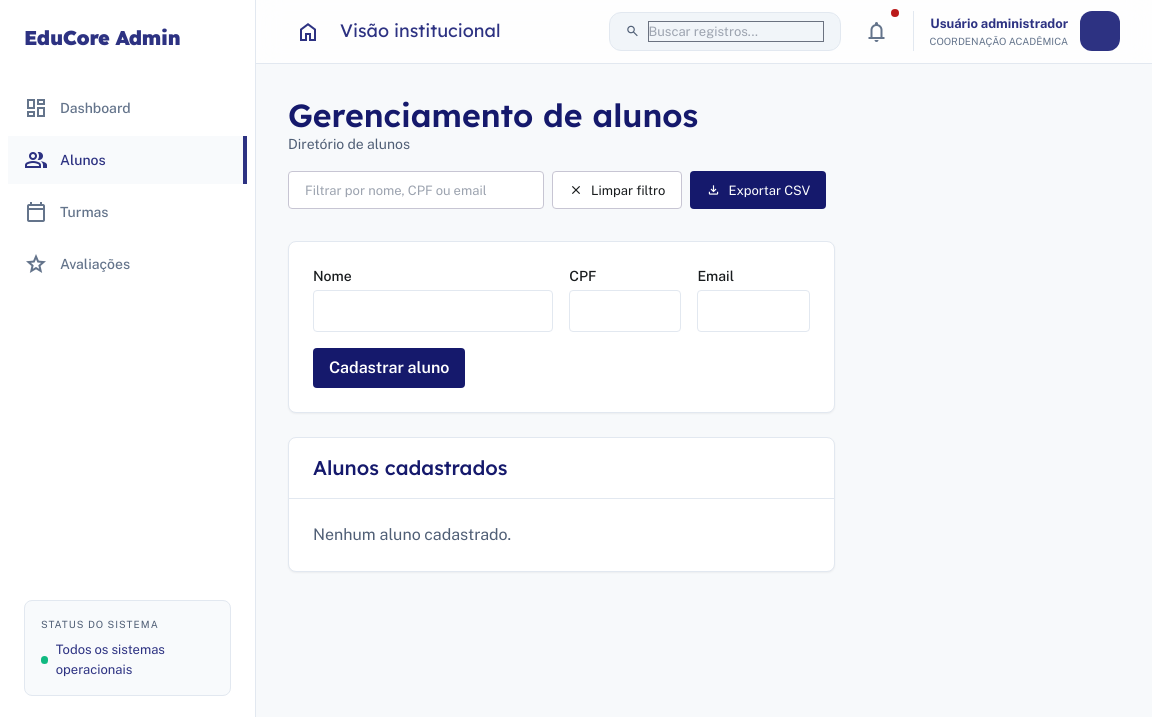
Test: Tela de turmas › remove turma com confirmação
Expected: the heading "Gerenciamento de alunos" is shown, left=288, top=96, right=698, bottom=134
Click the button "Turmas": [128, 212] box left=8, top=188, right=247, bottom=236
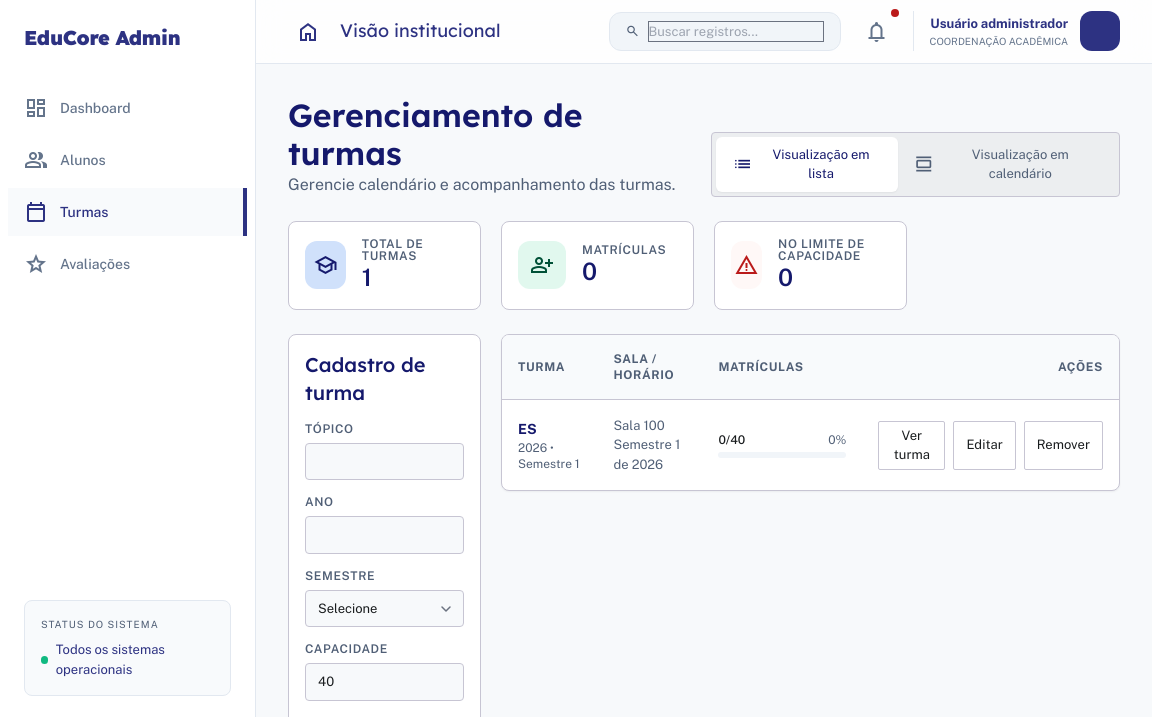
Click the button "Remover": [1063, 445] box left=1024, top=421, right=1103, bottom=470
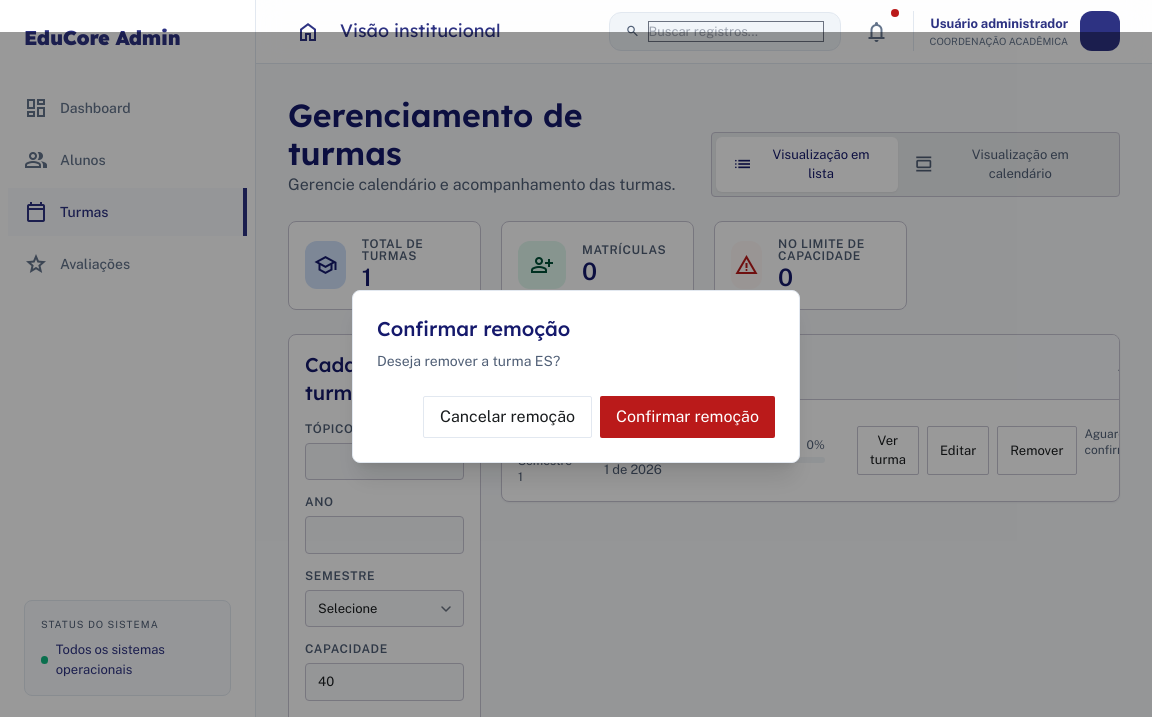
Now the text "Deseja remover a turma ES?" is shown, box left=377, top=352, right=560, bottom=368
Click the button "Confirmar remoção": [688, 416] box left=600, top=396, right=775, bottom=438
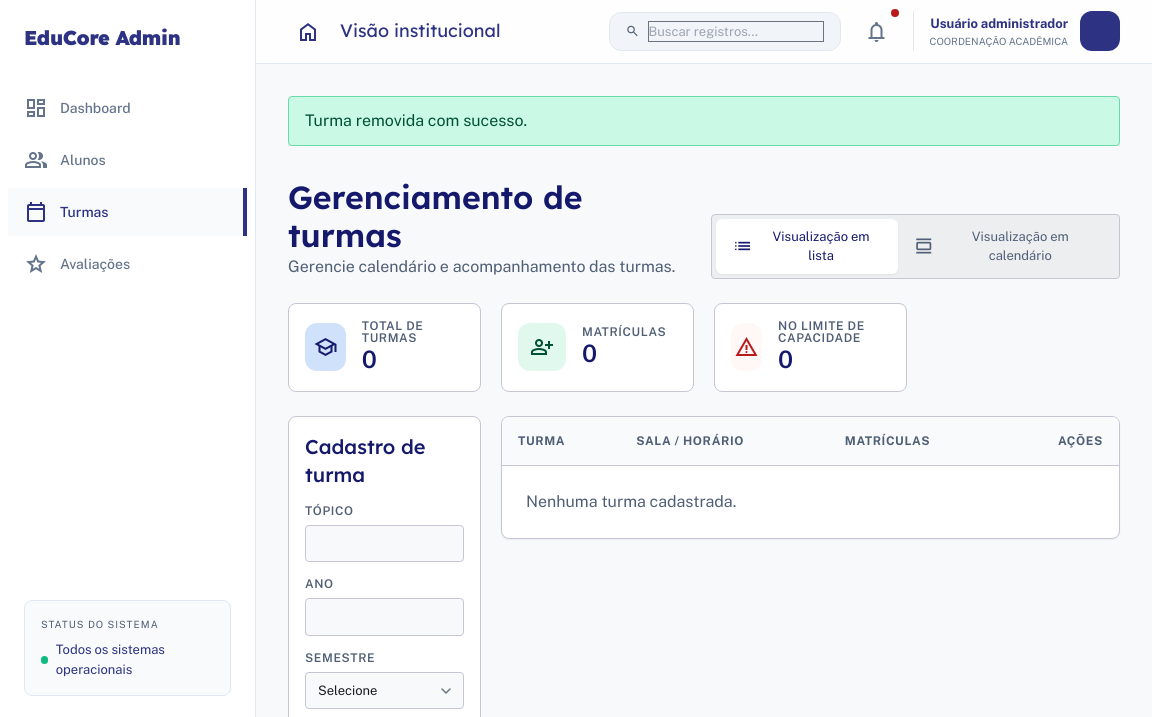
Now the message shows "Turma removida com sucesso", box left=305, top=111, right=527, bottom=130
Now the text "Nenhuma turma cadastrada." is shown, box left=502, top=466, right=1119, bottom=538
